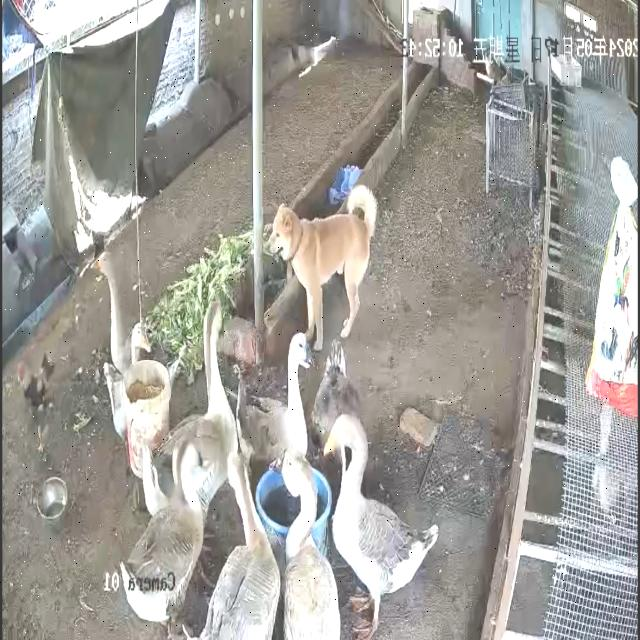dog: (269, 185, 379, 353)
